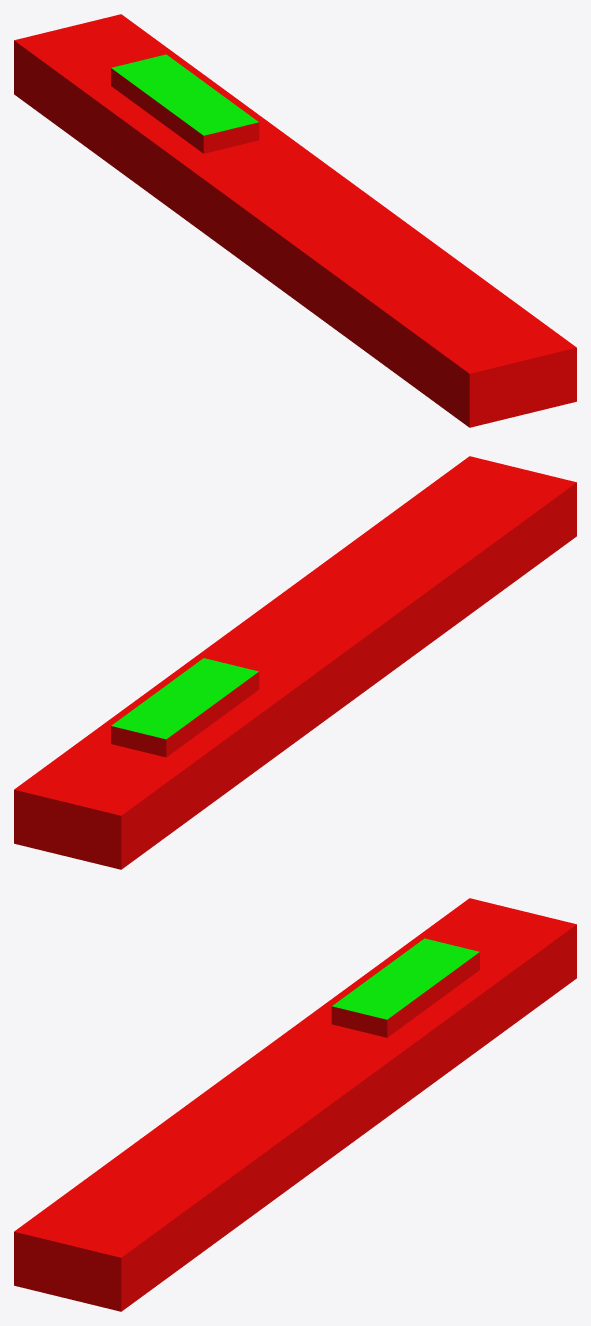
File: labeled.obj
The picture shows the model from 3 angles, top to bottom: view 1: azimuth 30°, elevation 25°; view 2: azimuth 150°, elevation 25°; view 3: azimuth 330°, elevation 25°; orthographic projection.
Size of the model in its own units: 0.0196 by 0.0125 by 0.1438.
